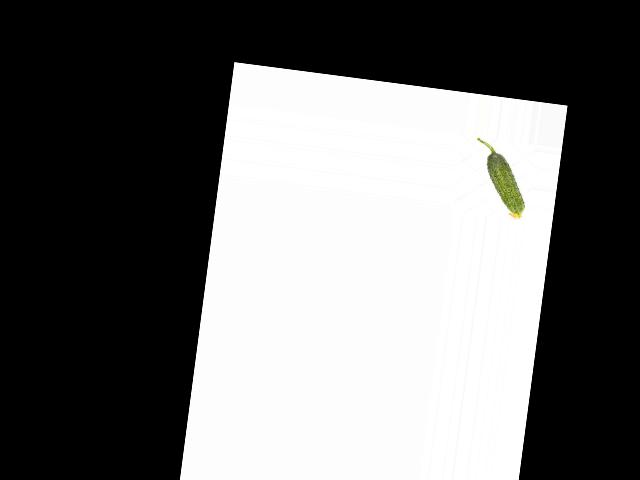cucumber: (467, 138, 533, 220)
